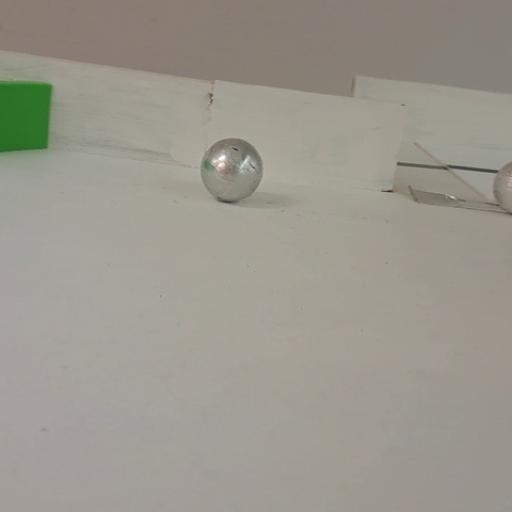alive: (199, 137, 264, 202), (491, 160, 512, 213)
